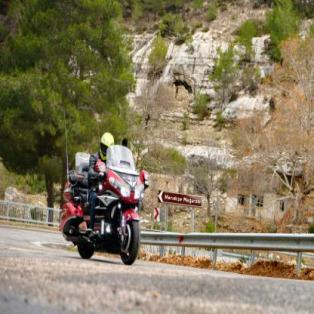Motocicleta: (54, 149, 150, 265)
